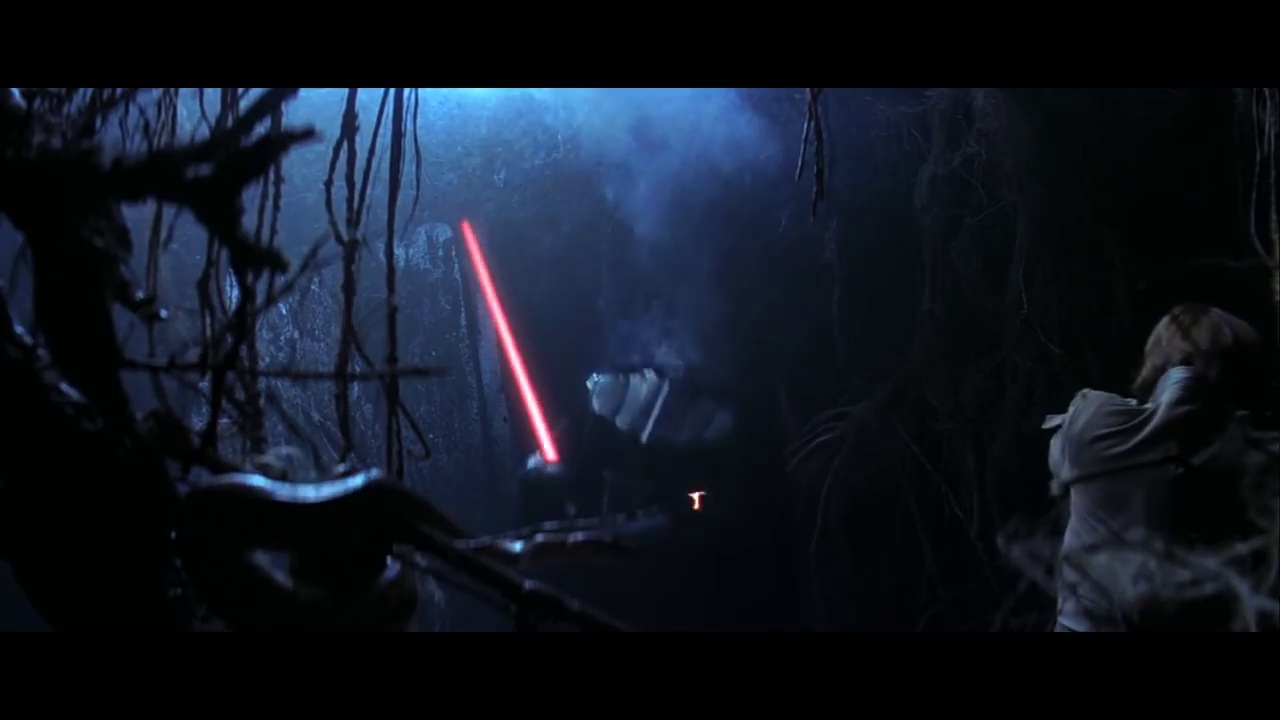lightsaber: (440, 216, 593, 514)
